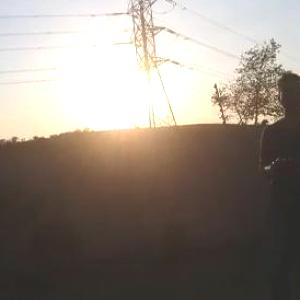follow: (255, 67, 300, 299)
